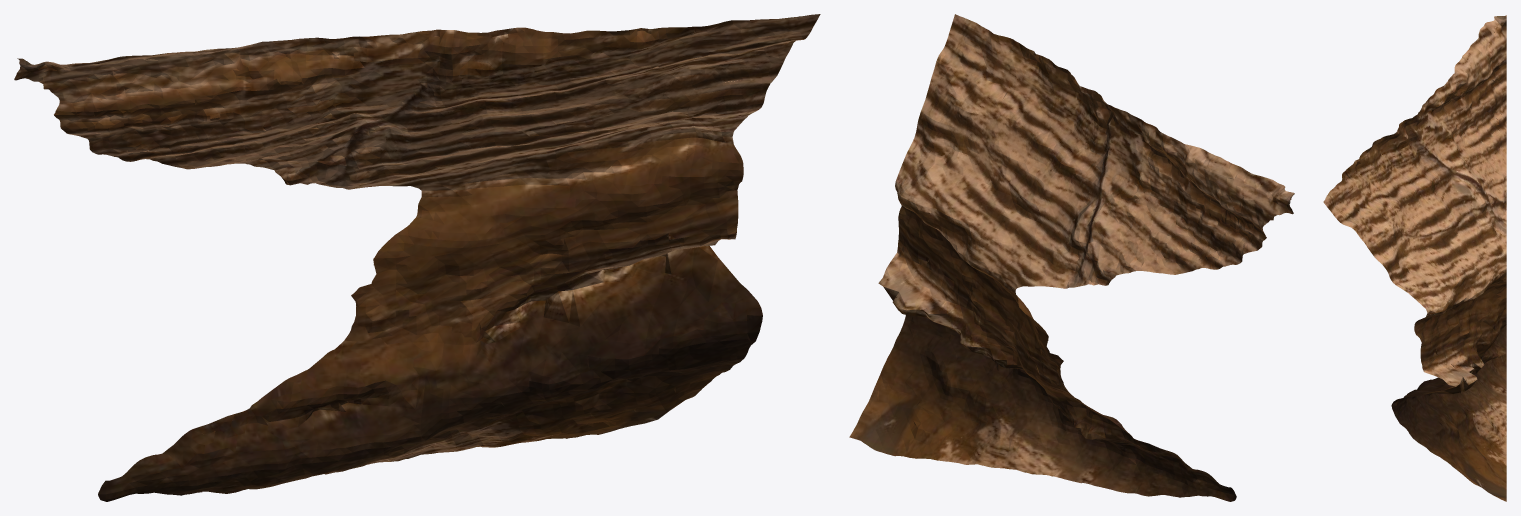
3 renders of one model, left to right at view 1: azimuth 30°, elevation 25°; view 2: azimuth 150°, elevation 25°; view 3: azimuth 270°, elevation 25°, orthographic. The views are drawn at different scales.
Bounding box in the file's own units: 0.768 × 0.5838 × 0.3166.
Materials: 1 (1 with a texture image).
